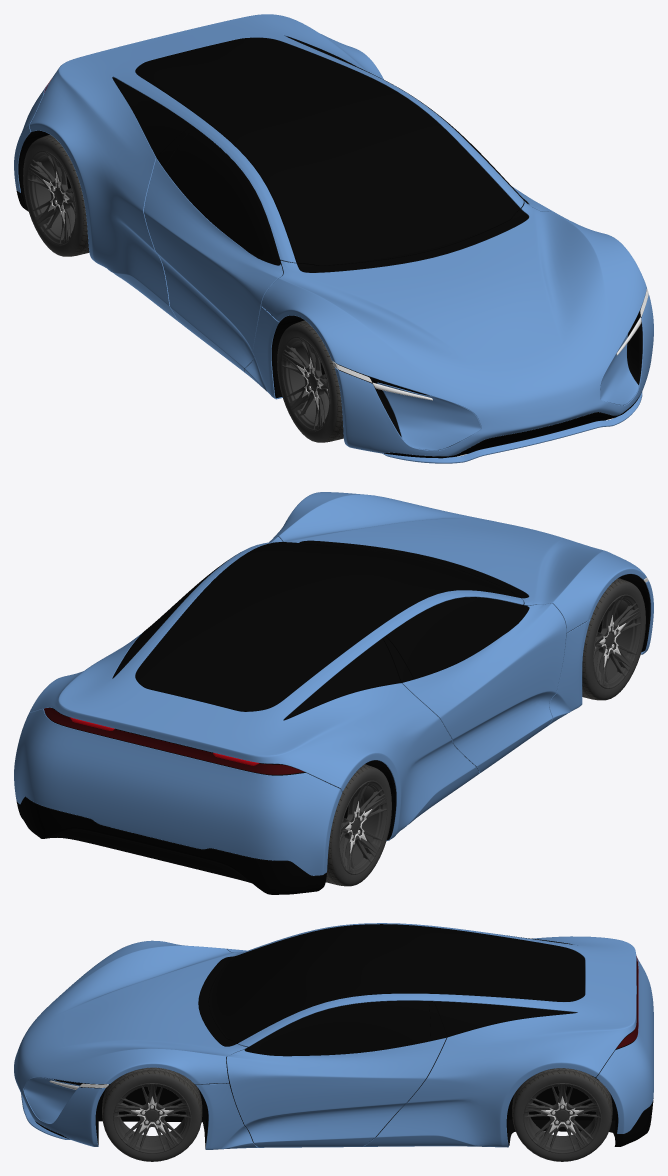
File: vanta_r49.glb
3 renders of one model, top to bottom at view 1: azimuth 30°, elevation 25°; view 2: azimuth 150°, elevation 25°; view 3: azimuth 270°, elevation 25°, orthographic. The views are drawn at different scales.
Parts seen in each view (by area): view 1: FC_049, FC_049.001, FC_049.013, FC_049.012, FC_049.015, wheel_235.001, wheel_235.003, FC_049.004, blocker, FC_049.002, FC_049.011, FC_049.006 (+3 smaller); view 2: FC_049.013, FC_049.001, FC_049.009, FC_049, FC_049.012, FC_049.008, FC_049.015, wheel_235.001, wheel_235.003, blocker, FC_049.002, FC_049.010 (+3 smaller); view 3: FC_049.013, FC_049.001, FC_049, FC_049.012, FC_049.015, wheel_235, wheel_235.002, FC_049.009, blocker.001, FC_049.002, FC_049.014, blocker (+4 smaller).
Part boxes in pixels (bbox=[...]): FC_049: bbox=[261, 201, 653, 456]; FC_049.001: bbox=[136, 37, 520, 265]; FC_049.013: bbox=[29, 14, 523, 323]; FC_049.012: bbox=[143, 158, 552, 372]; FC_049.015: bbox=[164, 81, 527, 264]; wheel_235.001: bbox=[277, 320, 343, 442]; wheel_235.003: bbox=[23, 135, 89, 256]; FC_049.004: bbox=[377, 333, 638, 450]; blocker: bbox=[18, 36, 642, 450]; FC_049.002: bbox=[114, 36, 381, 156]; FC_049.011: bbox=[297, 209, 528, 272]; FC_049.006: bbox=[382, 392, 642, 463]; FC_049.013: bbox=[29, 542, 523, 840]; FC_049.001: bbox=[136, 542, 519, 711]; FC_049.009: bbox=[14, 709, 342, 875]; FC_049: bbox=[271, 492, 653, 654]; FC_049.012: bbox=[269, 536, 566, 772]; FC_049.008: bbox=[16, 797, 326, 894]; FC_049.015: bbox=[185, 552, 527, 678]; wheel_235.001: bbox=[582, 578, 645, 700]; wheel_235.003: bbox=[326, 764, 391, 886]; blocker: bbox=[25, 538, 650, 875]; FC_049.002: bbox=[114, 592, 400, 718]; FC_049.010: bbox=[44, 708, 303, 774]; FC_049.013: bbox=[238, 923, 636, 1147]; FC_049.001: bbox=[208, 924, 584, 1043]; FC_049: bbox=[14, 940, 247, 1146]; FC_049.012: bbox=[226, 948, 446, 1147]; FC_049.015: bbox=[247, 1000, 430, 1055]; wheel_235: bbox=[102, 1067, 202, 1161]; wheel_235.002: bbox=[512, 1068, 612, 1161]; FC_049.009: bbox=[596, 957, 653, 1133]; blocker.001: bbox=[95, 1086, 617, 1144]; FC_049.002: bbox=[433, 935, 572, 1036]; FC_049.014: bbox=[195, 1083, 258, 1149]; blocker: bbox=[54, 958, 638, 1147].
Size of the model in its own units: 2 by 1.12 by 4.4.
Materials: 12 (1 with a texture image).
